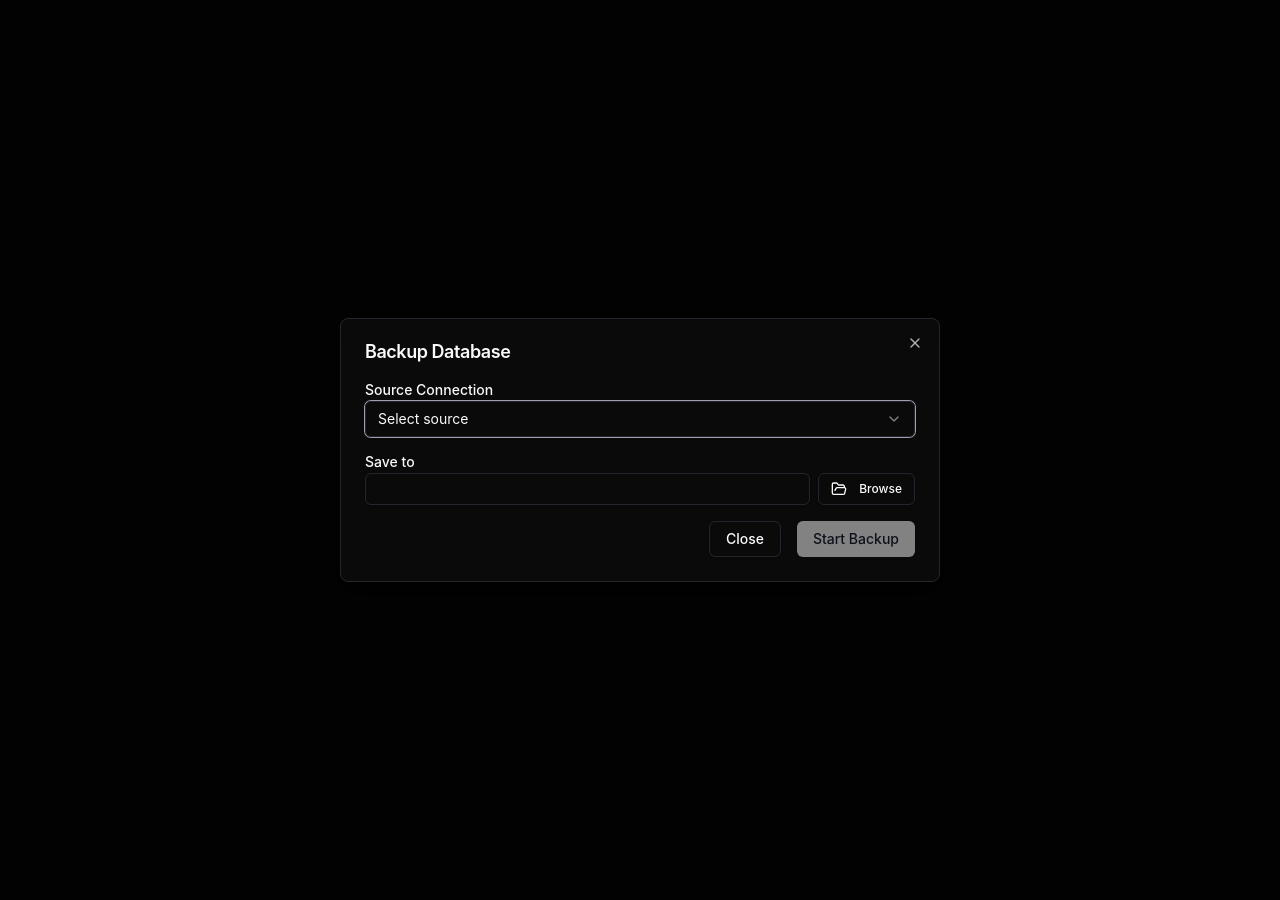
shows database select after source is selected
Click the dropdown "Select source": (423, 418) [365, 401, 915, 437]
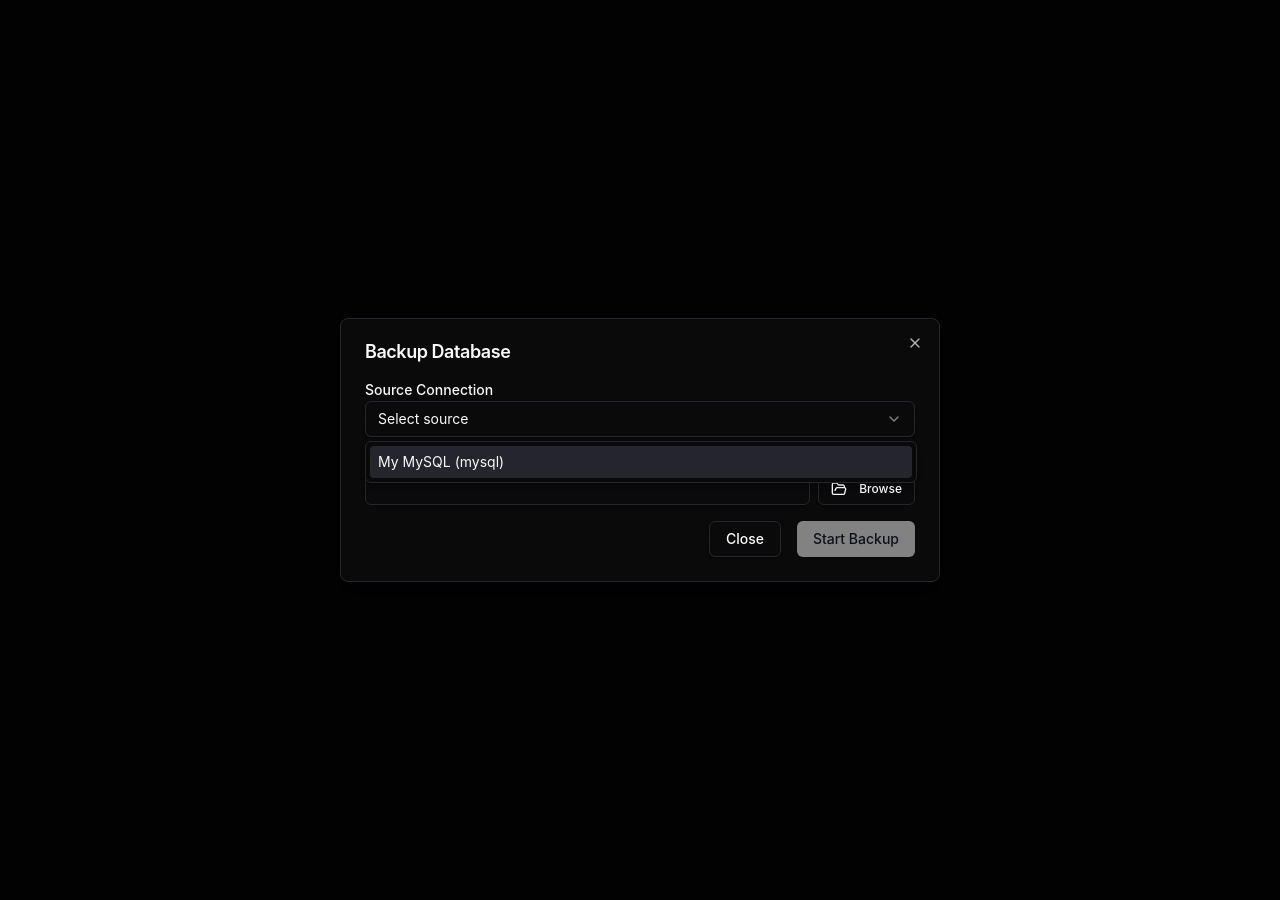
Click the option "My MySQL (mysql)": (414, 462) [370, 446, 912, 478]
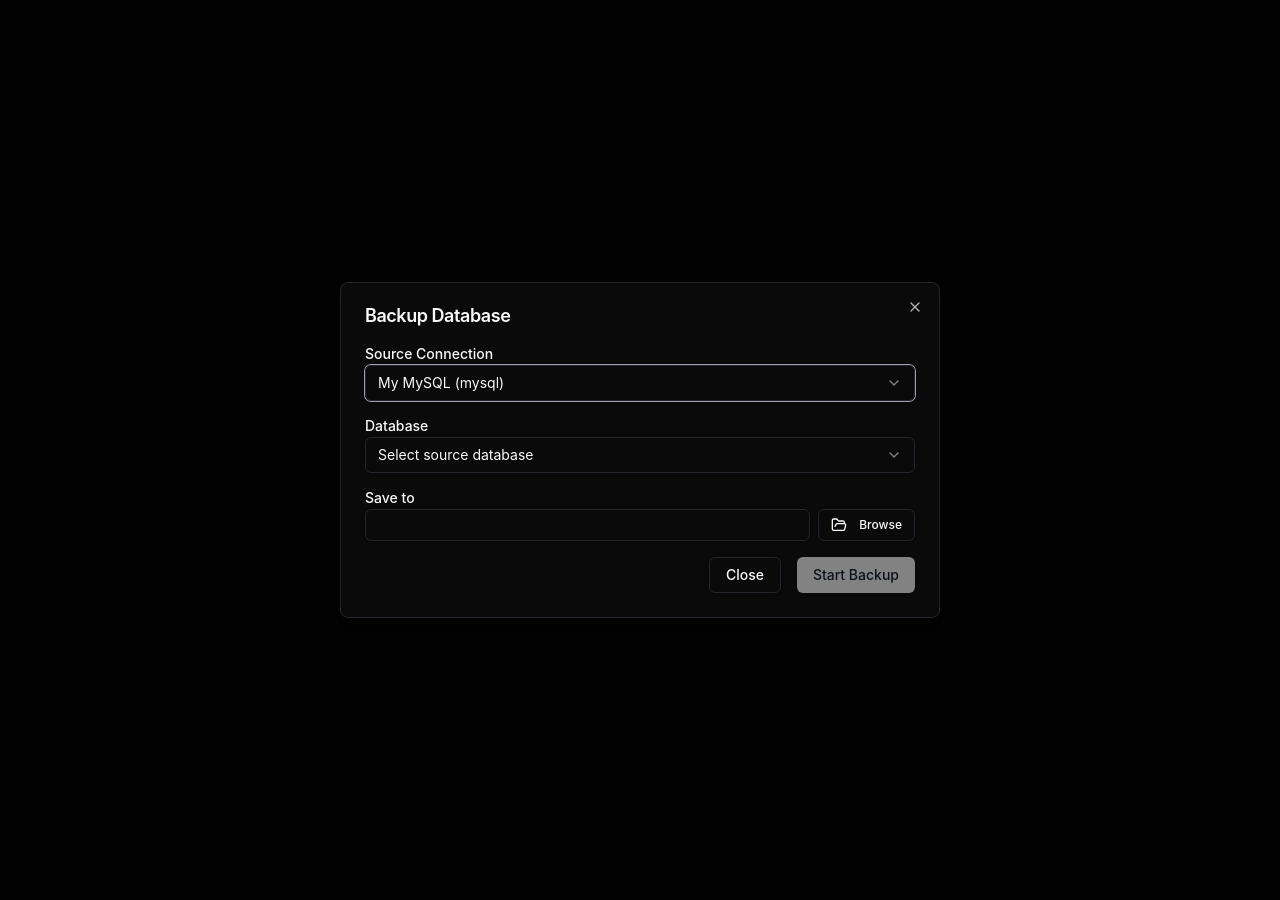
Expected: the text "Select source database" is shown, [378, 445, 534, 465]
